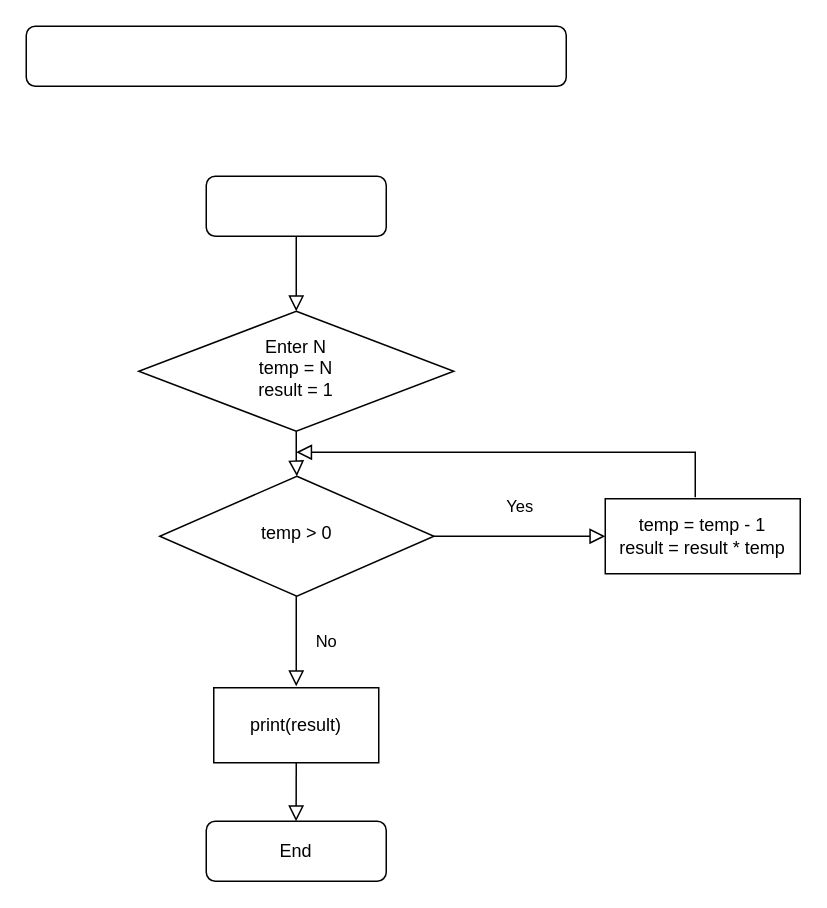
The diagram is 827 pixels wide and 908 high, and some of its shapes have lost their labels. The box of each missing label's shape, as (x1, y1, x2, y2) in pixels:
Start: (205, 175, 386, 236)
Составьте блок-схему нахождения факториала N: (25, 25, 566, 86)
